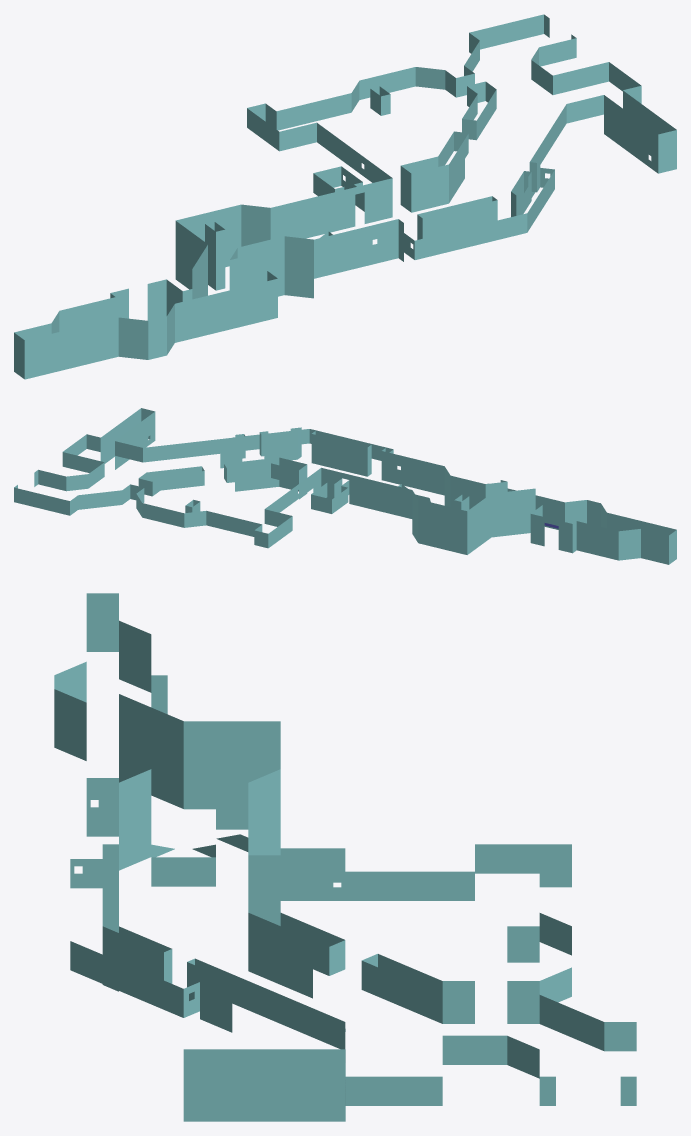
The model's file is Encounter_002_Walls.fbx.
3 renders of one model, top to bottom at view 1: azimuth 30°, elevation 25°; view 2: azimuth 150°, elevation 25°; view 3: azimuth 270°, elevation 25°, orthographic. The views are drawn at different scales.
Parts seen in each view (by area): view 1: Encounter_002_Walls; view 2: Encounter_002_Walls; view 3: Encounter_002_Walls.
Part boxes in pixels (<box>): Encounter_002_Walls: <box>14,14,676,379</box>; Encounter_002_Walls: <box>14,408,676,564</box>; Encounter_002_Walls: <box>54,593,636,1121</box>.
Size of the model in its own units: 15000 by 1200 by 7200.
